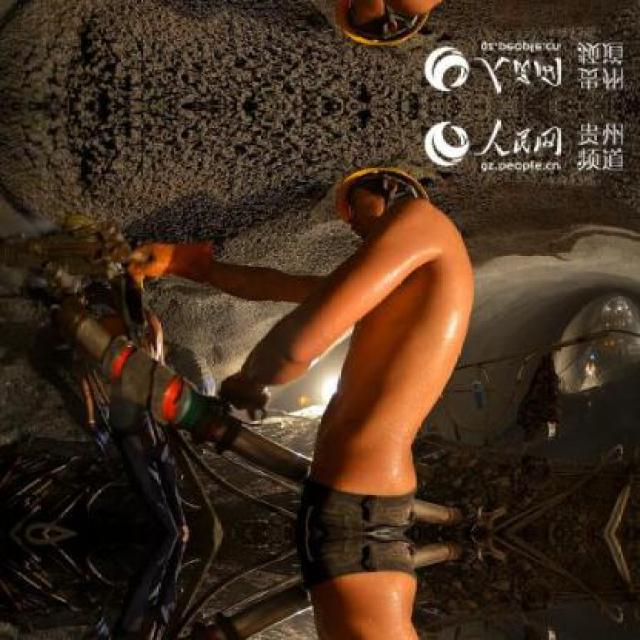helmet: (332, 159, 431, 228), (332, 0, 432, 54)
